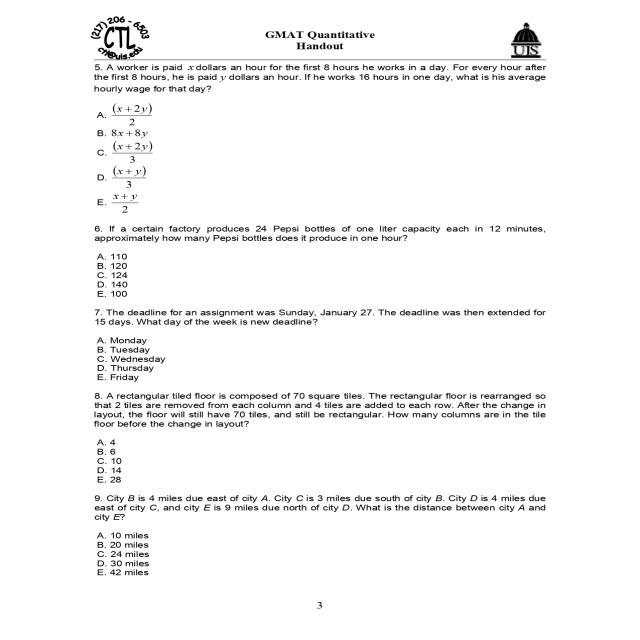Answer_Block: (32, 98, 614, 218), (32, 528, 614, 588), (32, 331, 614, 387), (32, 250, 614, 304), (32, 434, 614, 488)
Question_Answer_Block: (32, 59, 614, 219), (32, 388, 614, 488), (32, 490, 614, 588), (32, 222, 614, 304), (32, 306, 614, 387)
Question_Block: (32, 388, 614, 432), (32, 60, 614, 100), (32, 489, 614, 526), (32, 222, 614, 250), (32, 306, 614, 330)
Question_Paper_Area: (32, 59, 614, 614)
